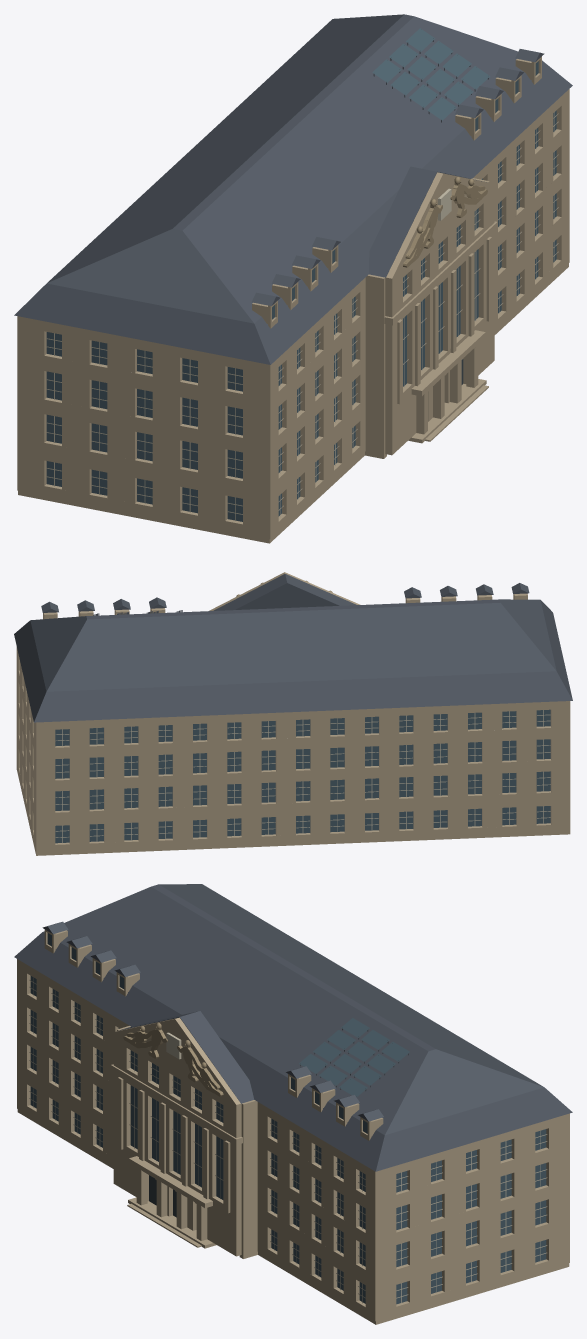
The model's file is esch-sur-alzette-town-hall-near.glb.
3 views of the same model, one above another, from view 1: azimuth 30°, elevation 25°; view 2: azimuth 150°, elevation 25°; view 3: azimuth 270°, elevation 25° (orthographic). The views are drawn at different scales.
Visible parts, largest first — view 1: esch-sur-alzette-town-hall-0-stone, esch-sur-alzette-town-hall-0-roof, esch-sur-alzette-town-hall-0-glass, esch-sur-alzette-town-hall-0-trim, esch-sur-alzette-town-hall-0-sculpture; view 2: esch-sur-alzette-town-hall-0-stone, esch-sur-alzette-town-hall-0-roof, esch-sur-alzette-town-hall-0-glass, esch-sur-alzette-town-hall-0-trim; view 3: esch-sur-alzette-town-hall-0-stone, esch-sur-alzette-town-hall-0-roof, esch-sur-alzette-town-hall-0-glass, esch-sur-alzette-town-hall-0-trim, esch-sur-alzette-town-hall-0-sculpture.
Boxes of the visible parts, x1,y1,x2,y2 form: esch-sur-alzette-town-hall-0-stone: (17, 56, 569, 543); esch-sur-alzette-town-hall-0-roof: (14, 14, 572, 364); esch-sur-alzette-town-hall-0-glass: (46, 28, 556, 521); esch-sur-alzette-town-hall-0-trim: (46, 112, 558, 520); esch-sur-alzette-town-hall-0-sculpture: (403, 176, 487, 267); esch-sur-alzette-town-hall-0-stone: (16, 572, 570, 855); esch-sur-alzette-town-hall-0-roof: (14, 574, 572, 722); esch-sur-alzette-town-hall-0-glass: (55, 709, 550, 843); esch-sur-alzette-town-hall-0-trim: (55, 710, 550, 843); esch-sur-alzette-town-hall-0-stone: (17, 929, 569, 1324); esch-sur-alzette-town-hall-0-roof: (14, 884, 572, 1171); esch-sur-alzette-town-hall-0-glass: (30, 933, 546, 1304); esch-sur-alzette-town-hall-0-trim: (29, 977, 547, 1303); esch-sur-alzette-town-hall-0-sculpture: (123, 1022, 223, 1096).
Bounding box in the file's own units: 56.25 × 21.2 × 48.48.
